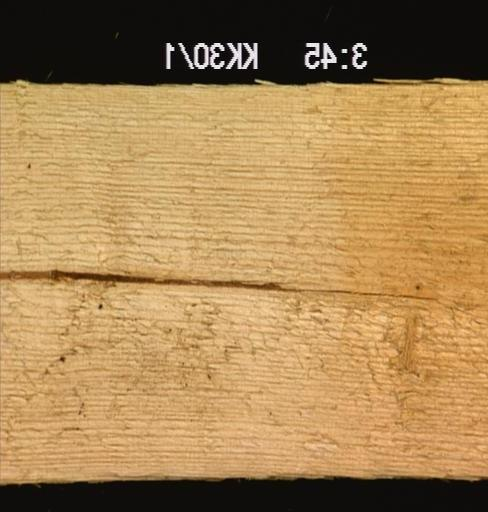split: (286, 283, 440, 300)
